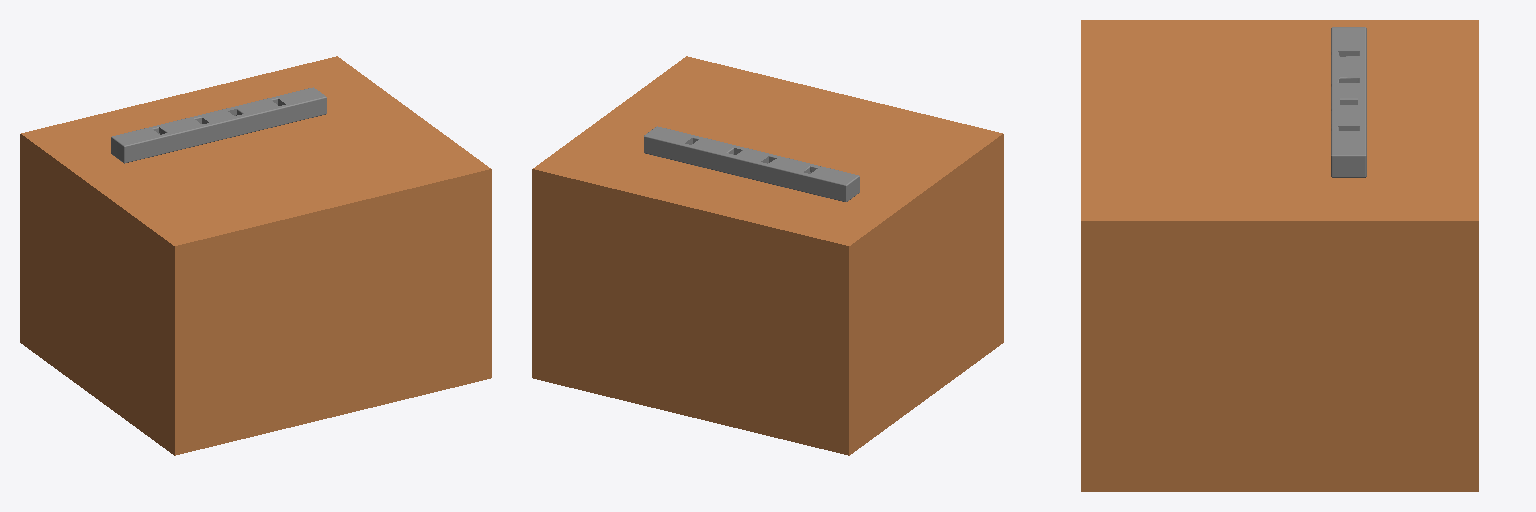
The robot description file, URDF, robot "table_beam_2x_2_scene_0027":
<?xml version="1.0"?>
<robot name="table_beam_2x_2_scene_0027">
  <link name="box">
    <visual>
      <material name="wood"><color rgba="0.82 0.56 0.35 1.0"/></material>
      <origin xyz="0 0 0"/>
      <geometry><box size="0.475 0.4 0.3"/></geometry>
    </visual>
    <collision>
      <origin xyz="0 0 0"/>
      <geometry><box size="0.475 0.4 0.3"/></geometry>
    </collision>
    <inertial>
      <mass value="500"/>
      <friction value="1.0"/>
      <inertia ixx="1000.0" ixy="0.0" ixz="0.0" iyy="1000.0" iyz="0.0" izz="1000.0"/>
    </inertial>
  </link>
  <link name="part_6_hull_0">
    <visual>
      <origin xyz="0 0 0" rpy="0 0 0"/>
      <geometry><mesh filename="../../6/coacd/decomp_0.obj" scale="1 1 1"/></geometry>
      <material name="placed_0"><color rgba="0.6 0.6 0.6 1.0"/></material>
    </visual>
    <collision>
      <origin xyz="0 0 0" rpy="0 0 0"/>
      <geometry><mesh filename="../../6/coacd/decomp_0.obj" scale="1 1 1"/></geometry>
    </collision>
  </link>
  <joint name="part_6_hull_0_joint" type="fixed">
    <parent link="box"/>
    <child link="part_6_hull_0"/>
    <origin xyz="-0.015467 0.069092 0.162666" rpy="0.000000 0.000000 0.000000"/>
  </joint>
  <link name="part_6_hull_1">
    <visual>
      <origin xyz="0 0 0" rpy="0 0 0"/>
      <geometry><mesh filename="../../6/coacd/decomp_1.obj" scale="1 1 1"/></geometry>
      <material name="placed_1"><color rgba="0.6 0.6 0.6 1.0"/></material>
    </visual>
    <collision>
      <origin xyz="0 0 0" rpy="0 0 0"/>
      <geometry><mesh filename="../../6/coacd/decomp_1.obj" scale="1 1 1"/></geometry>
    </collision>
  </link>
  <joint name="part_6_hull_1_joint" type="fixed">
    <parent link="box"/>
    <child link="part_6_hull_1"/>
    <origin xyz="-0.015467 0.069092 0.162666" rpy="0.000000 0.000000 0.000000"/>
  </joint>
  <link name="part_6_hull_2">
    <visual>
      <origin xyz="0 0 0" rpy="0 0 0"/>
      <geometry><mesh filename="../../6/coacd/decomp_10.obj" scale="1 1 1"/></geometry>
      <material name="placed_2"><color rgba="0.6 0.6 0.6 1.0"/></material>
    </visual>
    <collision>
      <origin xyz="0 0 0" rpy="0 0 0"/>
      <geometry><mesh filename="../../6/coacd/decomp_10.obj" scale="1 1 1"/></geometry>
    </collision>
  </link>
  <joint name="part_6_hull_2_joint" type="fixed">
    <parent link="box"/>
    <child link="part_6_hull_2"/>
    <origin xyz="-0.015467 0.069092 0.162666" rpy="0.000000 0.000000 0.000000"/>
  </joint>
  <link name="part_6_hull_3">
    <visual>
      <origin xyz="0 0 0" rpy="0 0 0"/>
      <geometry><mesh filename="../../6/coacd/decomp_11.obj" scale="1 1 1"/></geometry>
      <material name="placed_3"><color rgba="0.6 0.6 0.6 1.0"/></material>
    </visual>
    <collision>
      <origin xyz="0 0 0" rpy="0 0 0"/>
      <geometry><mesh filename="../../6/coacd/decomp_11.obj" scale="1 1 1"/></geometry>
    </collision>
  </link>
  <joint name="part_6_hull_3_joint" type="fixed">
    <parent link="box"/>
    <child link="part_6_hull_3"/>
    <origin xyz="-0.015467 0.069092 0.162666" rpy="0.000000 0.000000 0.000000"/>
  </joint>
  <link name="part_6_hull_4">
    <visual>
      <origin xyz="0 0 0" rpy="0 0 0"/>
      <geometry><mesh filename="../../6/coacd/decomp_12.obj" scale="1 1 1"/></geometry>
      <material name="placed_4"><color rgba="0.6 0.6 0.6 1.0"/></material>
    </visual>
    <collision>
      <origin xyz="0 0 0" rpy="0 0 0"/>
      <geometry><mesh filename="../../6/coacd/decomp_12.obj" scale="1 1 1"/></geometry>
    </collision>
  </link>
  <joint name="part_6_hull_4_joint" type="fixed">
    <parent link="box"/>
    <child link="part_6_hull_4"/>
    <origin xyz="-0.015467 0.069092 0.162666" rpy="0.000000 0.000000 0.000000"/>
  </joint>
  <link name="part_6_hull_5">
    <visual>
      <origin xyz="0 0 0" rpy="0 0 0"/>
      <geometry><mesh filename="../../6/coacd/decomp_13.obj" scale="1 1 1"/></geometry>
      <material name="placed_5"><color rgba="0.6 0.6 0.6 1.0"/></material>
    </visual>
    <collision>
      <origin xyz="0 0 0" rpy="0 0 0"/>
      <geometry><mesh filename="../../6/coacd/decomp_13.obj" scale="1 1 1"/></geometry>
    </collision>
  </link>
  <joint name="part_6_hull_5_joint" type="fixed">
    <parent link="box"/>
    <child link="part_6_hull_5"/>
    <origin xyz="-0.015467 0.069092 0.162666" rpy="0.000000 0.000000 0.000000"/>
  </joint>
  <link name="part_6_hull_6">
    <visual>
      <origin xyz="0 0 0" rpy="0 0 0"/>
      <geometry><mesh filename="../../6/coacd/decomp_2.obj" scale="1 1 1"/></geometry>
      <material name="placed_6"><color rgba="0.6 0.6 0.6 1.0"/></material>
    </visual>
    <collision>
      <origin xyz="0 0 0" rpy="0 0 0"/>
      <geometry><mesh filename="../../6/coacd/decomp_2.obj" scale="1 1 1"/></geometry>
    </collision>
  </link>
  <joint name="part_6_hull_6_joint" type="fixed">
    <parent link="box"/>
    <child link="part_6_hull_6"/>
    <origin xyz="-0.015467 0.069092 0.162666" rpy="0.000000 0.000000 0.000000"/>
  </joint>
  <link name="part_6_hull_7">
    <visual>
      <origin xyz="0 0 0" rpy="0 0 0"/>
      <geometry><mesh filename="../../6/coacd/decomp_3.obj" scale="1 1 1"/></geometry>
      <material name="placed_7"><color rgba="0.6 0.6 0.6 1.0"/></material>
    </visual>
    <collision>
      <origin xyz="0 0 0" rpy="0 0 0"/>
      <geometry><mesh filename="../../6/coacd/decomp_3.obj" scale="1 1 1"/></geometry>
    </collision>
  </link>
  <joint name="part_6_hull_7_joint" type="fixed">
    <parent link="box"/>
    <child link="part_6_hull_7"/>
    <origin xyz="-0.015467 0.069092 0.162666" rpy="0.000000 0.000000 0.000000"/>
  </joint>
  <link name="part_6_hull_8">
    <visual>
      <origin xyz="0 0 0" rpy="0 0 0"/>
      <geometry><mesh filename="../../6/coacd/decomp_4.obj" scale="1 1 1"/></geometry>
      <material name="placed_8"><color rgba="0.6 0.6 0.6 1.0"/></material>
    </visual>
    <collision>
      <origin xyz="0 0 0" rpy="0 0 0"/>
      <geometry><mesh filename="../../6/coacd/decomp_4.obj" scale="1 1 1"/></geometry>
    </collision>
  </link>
  <joint name="part_6_hull_8_joint" type="fixed">
    <parent link="box"/>
    <child link="part_6_hull_8"/>
    <origin xyz="-0.015467 0.069092 0.162666" rpy="0.000000 0.000000 0.000000"/>
  </joint>
  <link name="part_6_hull_9">
    <visual>
      <origin xyz="0 0 0" rpy="0 0 0"/>
      <geometry><mesh filename="../../6/coacd/decomp_5.obj" scale="1 1 1"/></geometry>
      <material name="placed_9"><color rgba="0.6 0.6 0.6 1.0"/></material>
    </visual>
    <collision>
      <origin xyz="0 0 0" rpy="0 0 0"/>
      <geometry><mesh filename="../../6/coacd/decomp_5.obj" scale="1 1 1"/></geometry>
    </collision>
  </link>
  <joint name="part_6_hull_9_joint" type="fixed">
    <parent link="box"/>
    <child link="part_6_hull_9"/>
    <origin xyz="-0.015467 0.069092 0.162666" rpy="0.000000 0.000000 0.000000"/>
  </joint>
  <link name="part_6_hull_10">
    <visual>
      <origin xyz="0 0 0" rpy="0 0 0"/>
      <geometry><mesh filename="../../6/coacd/decomp_6.obj" scale="1 1 1"/></geometry>
      <material name="placed_10"><color rgba="0.6 0.6 0.6 1.0"/></material>
    </visual>
    <collision>
      <origin xyz="0 0 0" rpy="0 0 0"/>
      <geometry><mesh filename="../../6/coacd/decomp_6.obj" scale="1 1 1"/></geometry>
    </collision>
  </link>
  <joint name="part_6_hull_10_joint" type="fixed">
    <parent link="box"/>
    <child link="part_6_hull_10"/>
    <origin xyz="-0.015467 0.069092 0.162666" rpy="0.000000 0.000000 0.000000"/>
  </joint>
  <link name="part_6_hull_11">
    <visual>
      <origin xyz="0 0 0" rpy="0 0 0"/>
      <geometry><mesh filename="../../6/coacd/decomp_7.obj" scale="1 1 1"/></geometry>
      <material name="placed_11"><color rgba="0.6 0.6 0.6 1.0"/></material>
    </visual>
    <collision>
      <origin xyz="0 0 0" rpy="0 0 0"/>
      <geometry><mesh filename="../../6/coacd/decomp_7.obj" scale="1 1 1"/></geometry>
    </collision>
  </link>
  <joint name="part_6_hull_11_joint" type="fixed">
    <parent link="box"/>
    <child link="part_6_hull_11"/>
    <origin xyz="-0.015467 0.069092 0.162666" rpy="0.000000 0.000000 0.000000"/>
  </joint>
  <link name="part_6_hull_12">
    <visual>
      <origin xyz="0 0 0" rpy="0 0 0"/>
      <geometry><mesh filename="../../6/coacd/decomp_8.obj" scale="1 1 1"/></geometry>
      <material name="placed_12"><color rgba="0.6 0.6 0.6 1.0"/></material>
    </visual>
    <collision>
      <origin xyz="0 0 0" rpy="0 0 0"/>
      <geometry><mesh filename="../../6/coacd/decomp_8.obj" scale="1 1 1"/></geometry>
    </collision>
  </link>
  <joint name="part_6_hull_12_joint" type="fixed">
    <parent link="box"/>
    <child link="part_6_hull_12"/>
    <origin xyz="-0.015467 0.069092 0.162666" rpy="0.000000 0.000000 0.000000"/>
  </joint>
  <link name="part_6_hull_13">
    <visual>
      <origin xyz="0 0 0" rpy="0 0 0"/>
      <geometry><mesh filename="../../6/coacd/decomp_9.obj" scale="1 1 1"/></geometry>
      <material name="placed_13"><color rgba="0.6 0.6 0.6 1.0"/></material>
    </visual>
    <collision>
      <origin xyz="0 0 0" rpy="0 0 0"/>
      <geometry><mesh filename="../../6/coacd/decomp_9.obj" scale="1 1 1"/></geometry>
    </collision>
  </link>
  <joint name="part_6_hull_13_joint" type="fixed">
    <parent link="box"/>
    <child link="part_6_hull_13"/>
    <origin xyz="-0.015467 0.069092 0.162666" rpy="0.000000 0.000000 0.000000"/>
  </joint>
</robot>

--- Render facts (derived) ---
3 views of the same robot in one strip: view 1: azimuth 30°, elevation 25°; view 2: azimuth 150°, elevation 25°; view 3: azimuth 270°, elevation 25° (orthographic).
Robot: table_beam_2x_2_scene_0027 — 15 links, 14 joints (14 fixed); root link box; default pose: all joints at 0.
Links seen in each view (by area): view 1: box, part_6_hull_1, part_6_hull_0, part_6_hull_9, part_6_hull_5, part_6_hull_3; view 2: box, part_6_hull_1, part_6_hull_0, part_6_hull_2, part_6_hull_5, part_6_hull_12; view 3: box, part_6_hull_0, part_6_hull_1, part_6_hull_5, part_6_hull_2.
Link boxes in pixels (left/top/right/bottom): box: left=20, top=56, right=491, bottom=455; part_6_hull_1: left=111, top=127, right=162, bottom=163; part_6_hull_0: left=276, top=87, right=326, bottom=122; part_6_hull_9: left=161, top=123, right=212, bottom=153; part_6_hull_5: left=243, top=98, right=281, bottom=131; part_6_hull_3: left=213, top=112, right=254, bottom=140; box: left=532, top=56, right=1003, bottom=455; part_6_hull_1: left=808, top=166, right=859, bottom=201; part_6_hull_0: left=644, top=126, right=694, bottom=161; part_6_hull_2: left=765, top=158, right=810, bottom=190; part_6_hull_5: left=689, top=137, right=727, bottom=170; part_6_hull_12: left=716, top=151, right=757, bottom=179; box: left=1081, top=20, right=1478, bottom=491; part_6_hull_0: left=1331, top=131, right=1366, bottom=177; part_6_hull_1: left=1331, top=27, right=1366, bottom=56; part_6_hull_5: left=1331, top=109, right=1366, bottom=130; part_6_hull_2: left=1340, top=56, right=1366, bottom=82.
Bounding box of the posed robot: 0.475 × 0.4 × 0.3254 m (x, y, z).
14 mesh visuals loaded from 14 distinct referenced files (14 OBJ).
